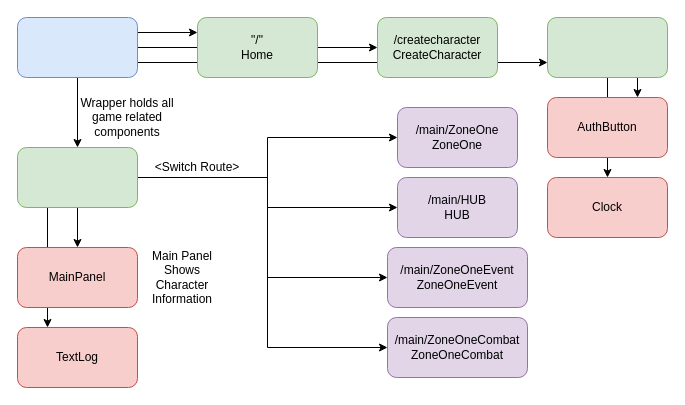
Some shapes in this 685 by 405 pixel diagram are drawn without their labels. Each missing label, with the centre of its shape:
"App" goes at (x=77, y=47).
"Navbar" goes at (x=607, y=47).
"Wrapper" goes at (x=77, y=177).
